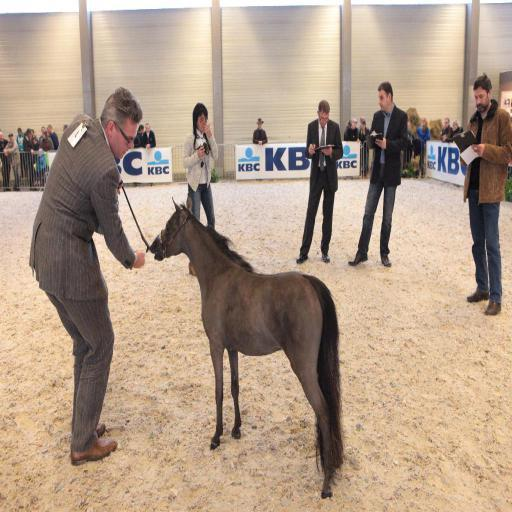Horse: (148, 192, 348, 504)
